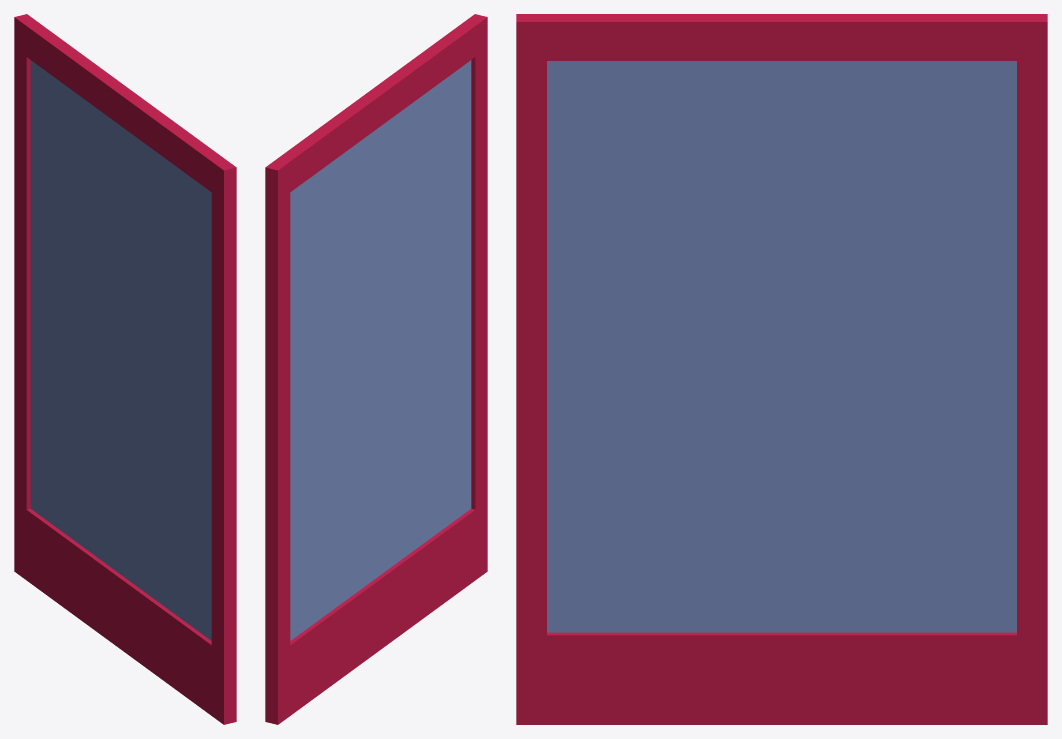
Rendered from geo_Door1.fbx.
3 views of the same model, side by side, from view 1: azimuth 30°, elevation 25°; view 2: azimuth 150°, elevation 25°; view 3: azimuth 270°, elevation 25° (orthographic). The views are drawn at different scales.
Parts seen in each view (by area): view 1: geo_Door1; view 2: geo_Door1; view 3: geo_Door1.
Boxes of the visible parts, box(x1,y1,x2,y2) form: geo_Door1: box(14, 14, 236, 724); geo_Door1: box(265, 14, 487, 724); geo_Door1: box(516, 14, 1047, 724).
Bounding box in the file's own units: 6 × 251 × 172.
